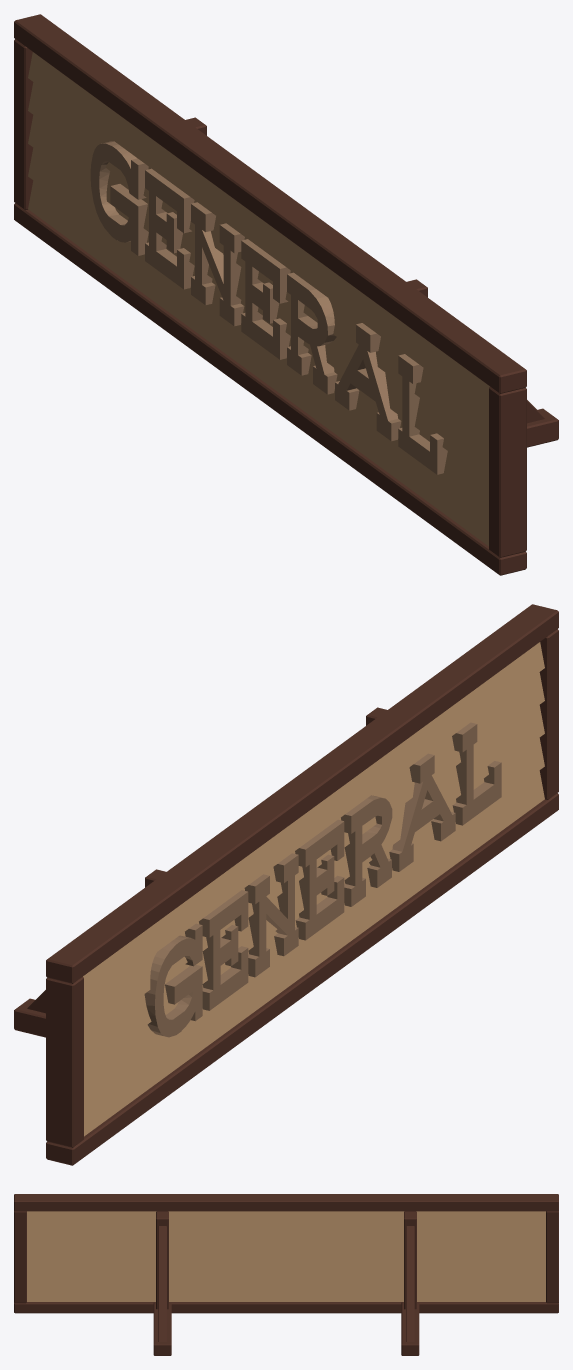
File: saloon-sign-c.glb
The picture shows the model from 3 angles, top to bottom: view 1: azimuth 30°, elevation 25°; view 2: azimuth 150°, elevation 25°; view 3: azimuth 270°, elevation 25°; orthographic projection. The views are drawn at different scales.
Visible parts, largest first — view 1: Saloon Sign C (×3); view 2: Saloon Sign C (×3); view 3: Saloon Sign C (×2).
Part boxes in pixels (x1,y1,x2,y2): Saloon Sign C (×3): [14, 14, 558, 575]; Saloon Sign C (×3): [14, 604, 558, 1165]; Saloon Sign C (×2): [14, 1194, 558, 1355].
Size of the model in its own units: 1.46 by 1.5 by 6.6.
